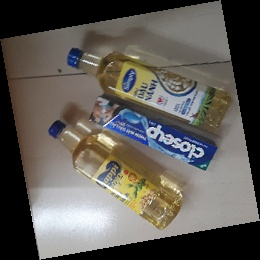CloseUp Tuyet: (89, 95, 218, 172)
Happy Soya: (47, 118, 186, 231)
Simply: (66, 47, 230, 133)
